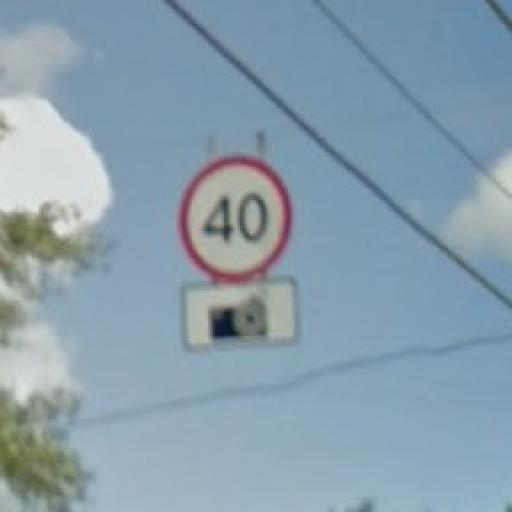traffic_sign: (179, 156, 294, 284)
